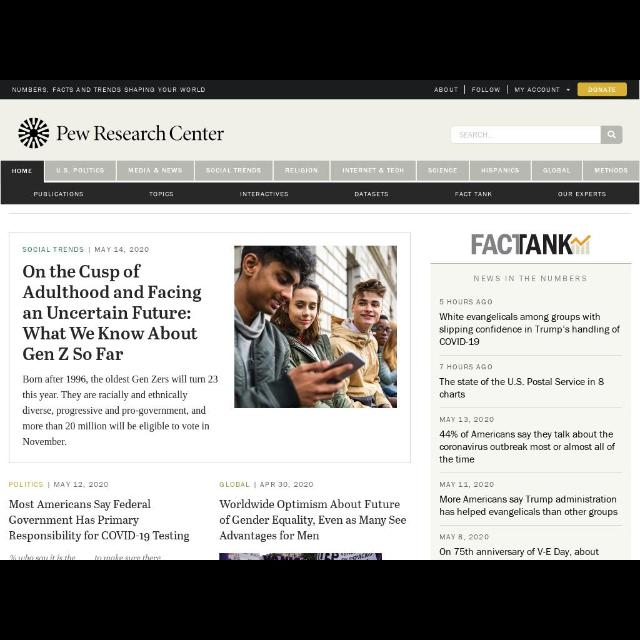button: (602, 128, 622, 142)
icon: (606, 131, 616, 139), (566, 88, 572, 92)
image: (235, 246, 397, 408), (472, 234, 590, 256), (18, 118, 50, 150)
input: (452, 126, 600, 142)
multitab: (1, 181, 639, 203), (1, 162, 639, 182)
spinner: (510, 82, 574, 98)
text: (24, 264, 202, 362), (23, 376, 218, 444), (9, 500, 190, 544), (219, 498, 407, 538), (438, 312, 620, 348), (440, 430, 616, 462), (439, 495, 617, 519), (440, 376, 604, 399), (58, 125, 224, 145), (439, 547, 601, 557), (20, 244, 150, 256), (12, 86, 205, 94), (474, 274, 586, 284), (8, 480, 110, 490), (220, 480, 314, 488), (342, 167, 403, 176), (440, 532, 490, 542), (439, 362, 493, 370), (440, 482, 494, 490), (238, 190, 290, 198), (440, 298, 492, 306), (206, 168, 262, 175), (454, 190, 492, 200), (128, 168, 182, 175), (516, 86, 560, 94), (460, 131, 494, 141), (440, 416, 494, 422), (33, 192, 83, 198), (482, 166, 518, 174), (558, 191, 604, 197), (354, 190, 388, 198), (470, 86, 500, 94), (588, 86, 616, 94), (433, 86, 459, 94), (56, 168, 106, 172), (542, 168, 570, 175), (596, 168, 628, 174), (286, 168, 316, 174), (147, 192, 175, 198), (12, 166, 32, 174), (428, 168, 458, 172)
textbutton: (577, 84, 627, 96)
